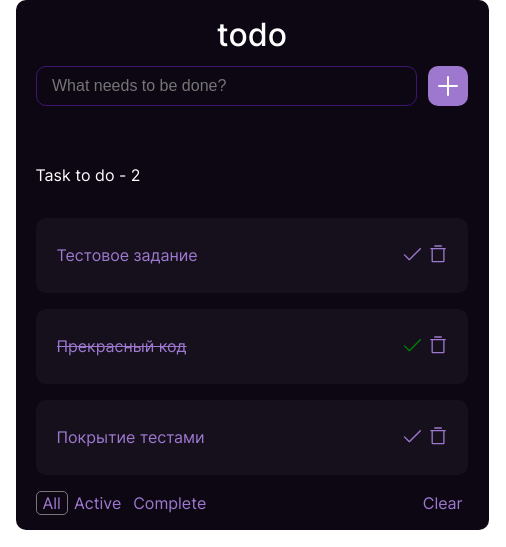
TodoList › showActiveTOdo
Click the button "Active" at (98, 503), box 68,492 -> 127,514
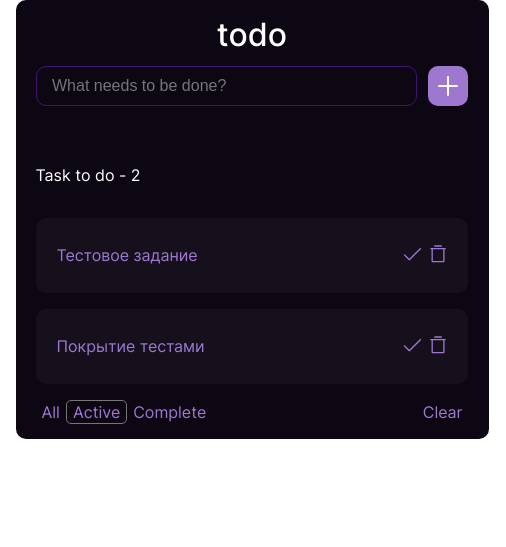
Check: the number of list items is 2, box 36,218 -> 468,293; 36,309 -> 468,384
